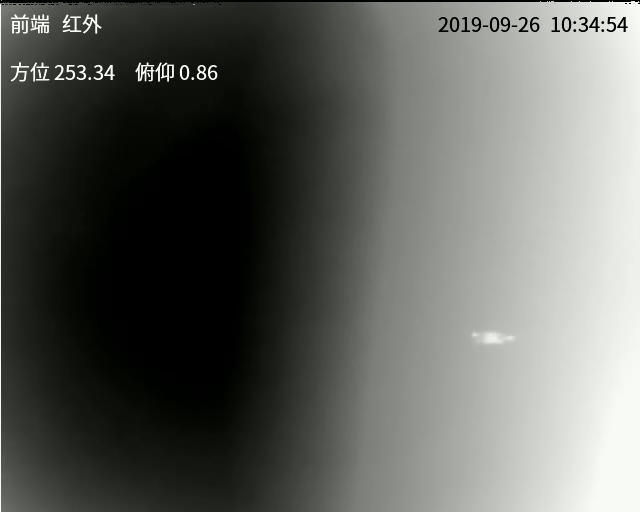uav: (435, 312, 485, 336)
